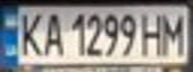1: (66, 9, 87, 56)
2: (84, 9, 106, 57)
9: (118, 10, 142, 57), (103, 10, 124, 57)
A: (39, 9, 66, 57)
H: (136, 9, 166, 57)
K: (15, 8, 45, 57)
M: (157, 9, 190, 56)
